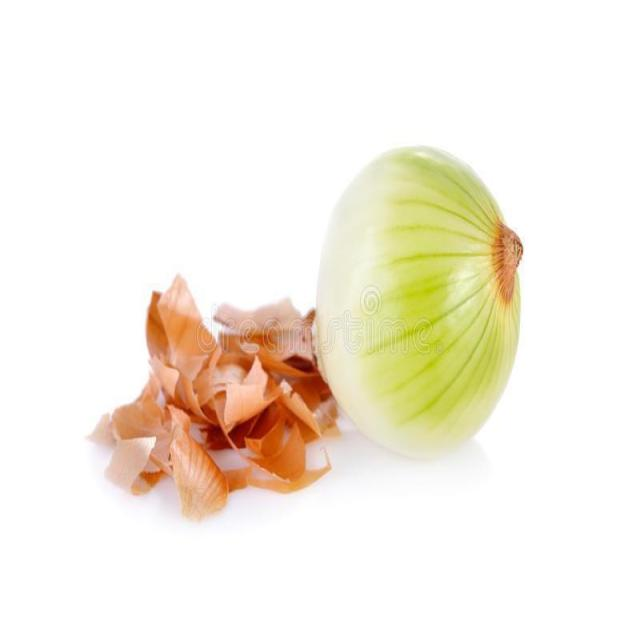Onion: (311, 147, 524, 461), (84, 268, 340, 518)
